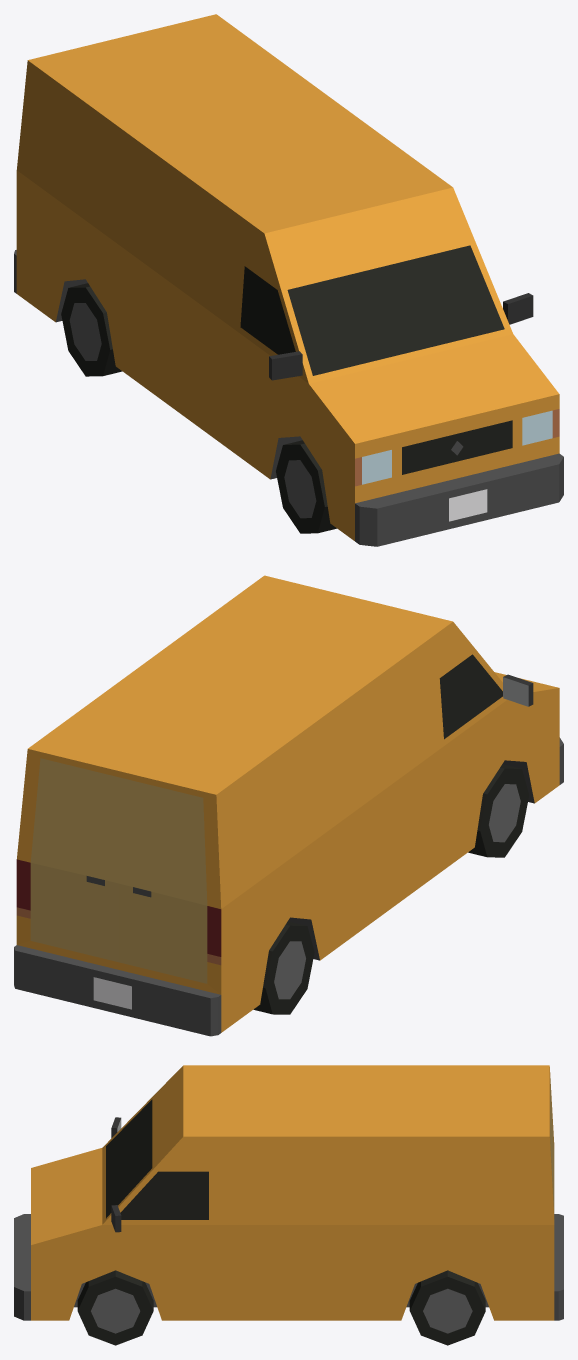
Rendered from Veh_Van_03_Yellow.obj.
3 renders of one model, top to bottom at view 1: azimuth 30°, elevation 25°; view 2: azimuth 150°, elevation 25°; view 3: azimuth 270°, elevation 25°, orthographic. The views are drawn at different scales.
Size of the model in its own units: 1.41 by 1.37 by 3.31.
